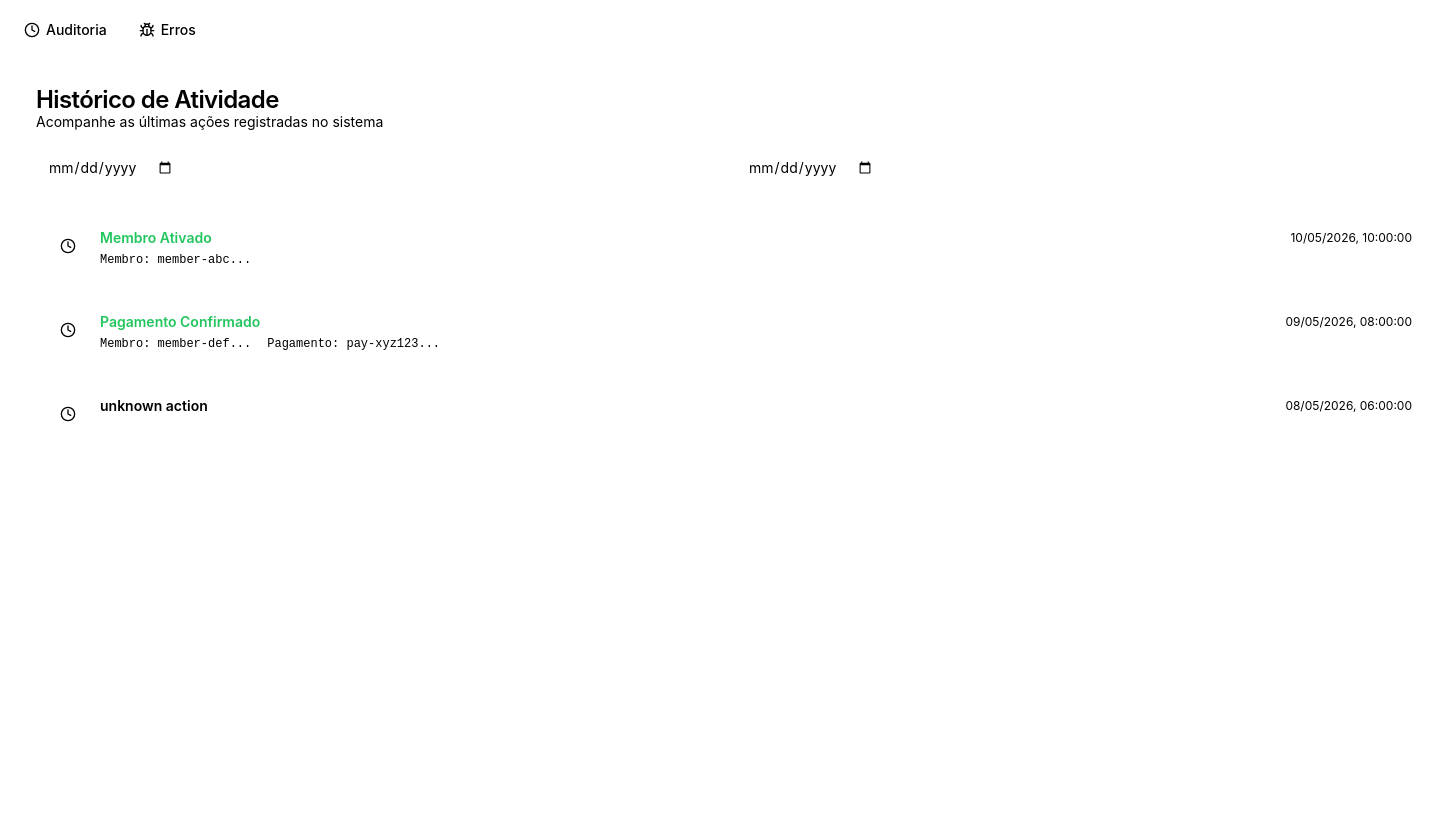
Test: LogsTab › expands error on click to show details
This screenshot has width=1452, height=822.
Click the button "Erros". click: (167,30)
box: [127, 12, 208, 48]
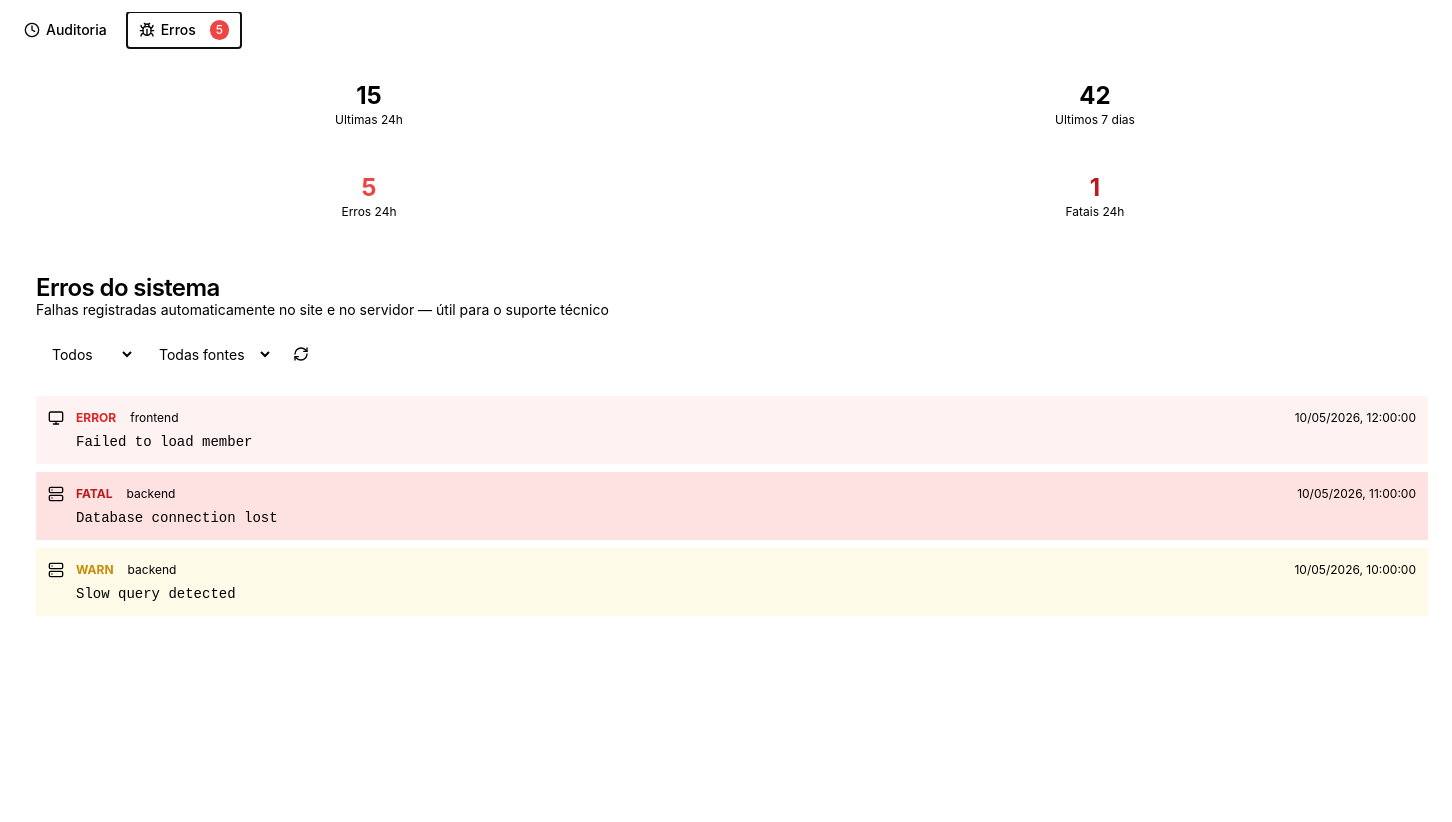
Expected: the text "Failed to load member" is shown, [76, 434, 252, 450]
Note: Click on the error row container (the clickable div wrapper)
Click the text "Failed to load member". click: (732,430)
box: [36, 396, 1428, 464]
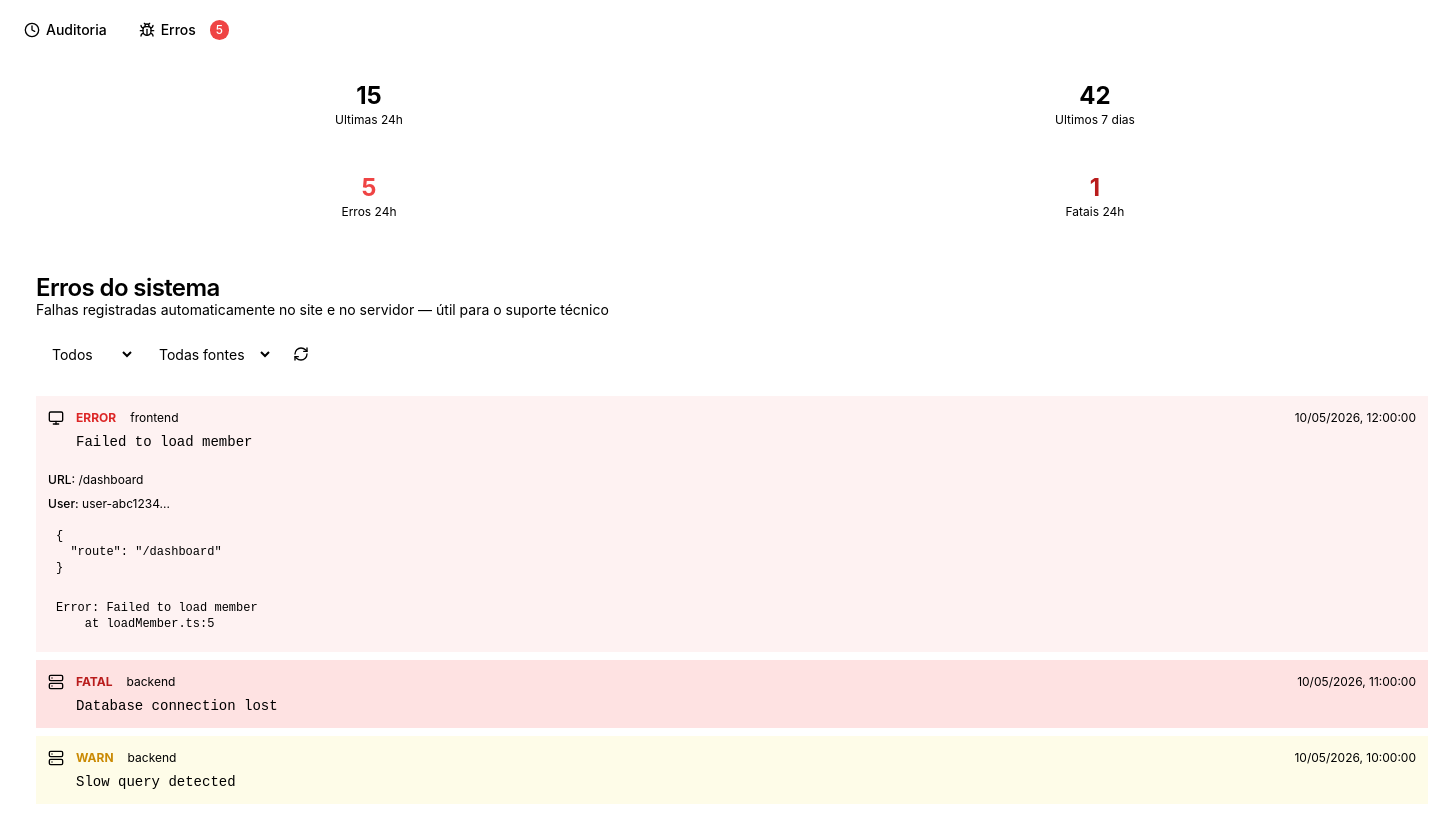
Expected: the text "URL:" is shown, [48, 472, 75, 487]
Expected: the text "User:" is shown, [48, 496, 79, 511]
